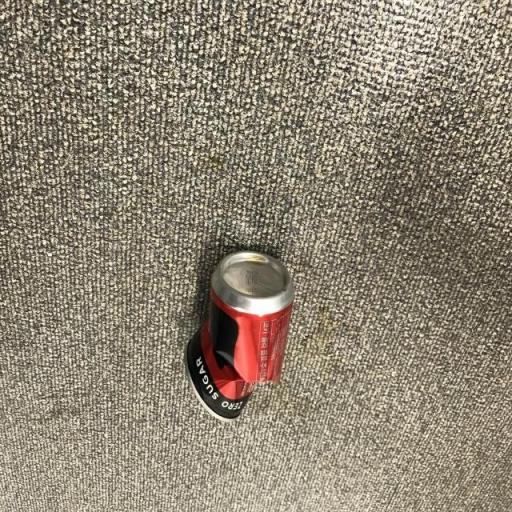metal: (173, 233, 314, 432)
